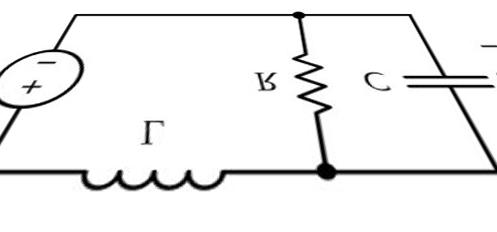inductor: (59, 156, 244, 200)
